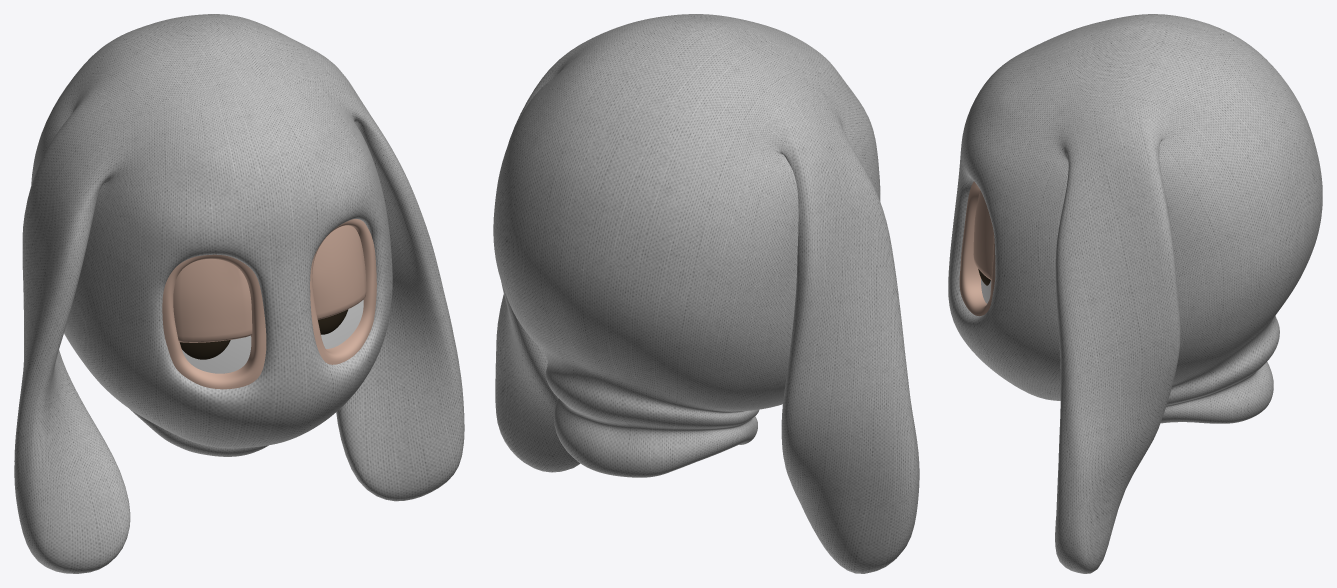
The picture shows the model from 3 angles, left to right: view 1: azimuth 30°, elevation 25°; view 2: azimuth 150°, elevation 25°; view 3: azimuth 270°, elevation 25°; orthographic projection. The views are drawn at different scales.
Visible parts, largest first — view 1: Baddie_Balaclava.003, Face.006, Eyelid_right.006, Eyelid_left.006, Sclera.008, Pupil_right.001; view 2: Baddie_Balaclava.003; view 3: Baddie_Balaclava.003, Face.006, Eyelid_left.006.
Part boxes in pixels (left/top/right/bottom): Baddie_Balaclava.003: left=14, top=14, right=464, bottom=573; Face.006: left=162, top=219, right=376, bottom=389; Eyelid_right.006: left=173, top=259, right=252, bottom=342; Eyelid_left.006: left=312, top=225, right=366, bottom=319; Sclera.008: left=182, top=300, right=363, bottom=373; Pupil_right.001: left=179, top=340, right=230, bottom=359; Baddie_Balaclava.003: left=493, top=14, right=919, bottom=573; Baddie_Balaclava.003: left=948, top=14, right=1322, bottom=573; Face.006: left=959, top=181, right=995, bottom=316; Eyelid_left.006: left=973, top=190, right=993, bottom=279.
Bounding box in the file's own units: 1.09 × 1.22 × 0.8757.
Materials: 3 (1 with a texture image).
